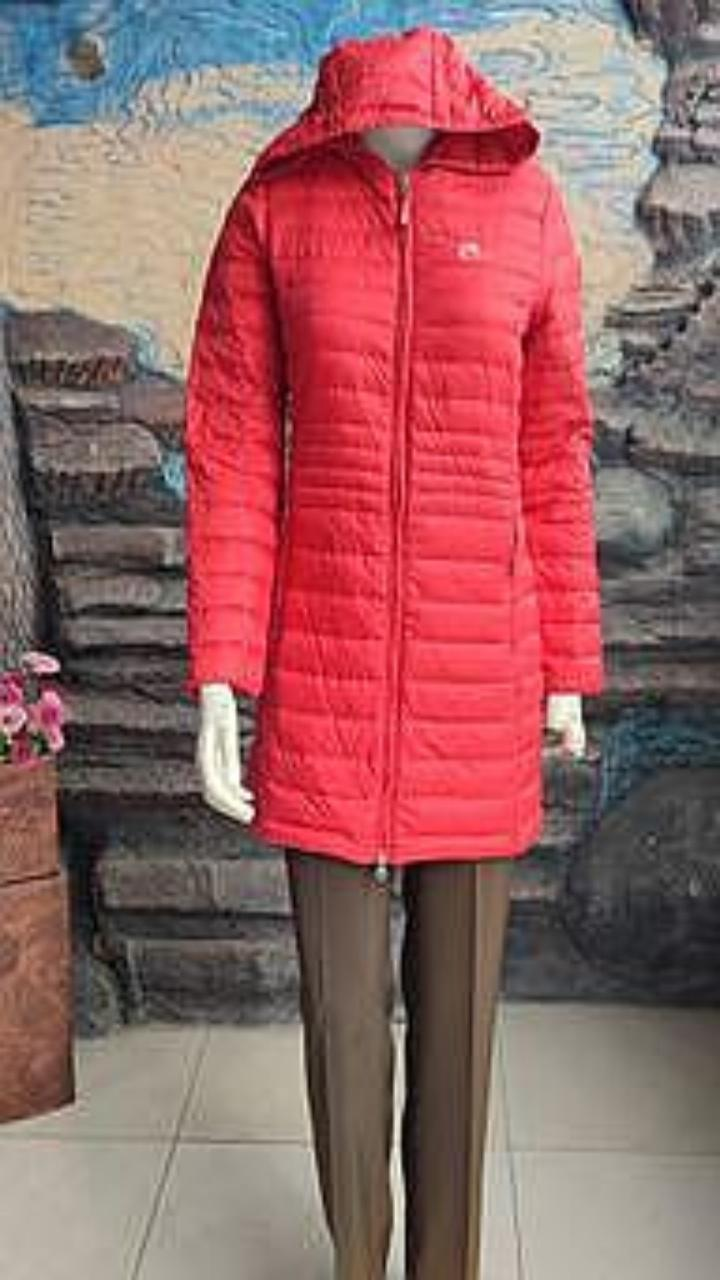Coat: (185, 26, 603, 877)
